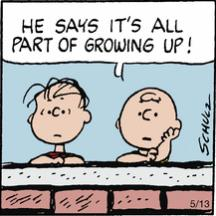charlie: (115, 86, 183, 164)
